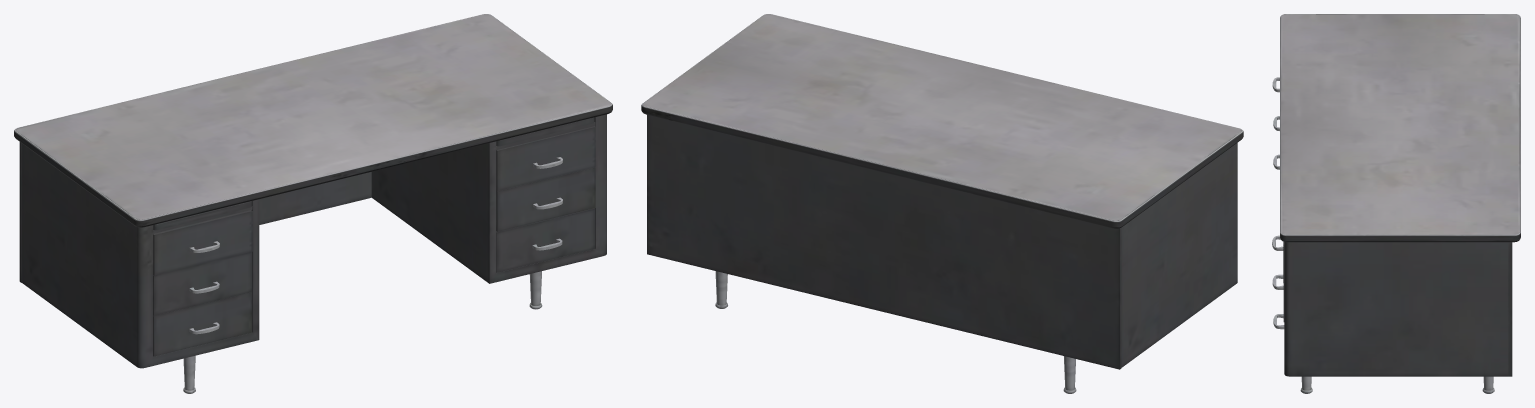
Rendered from deskMetal.glb.
The picture shows the model from 3 angles, left to right: view 1: azimuth 30°, elevation 25°; view 2: azimuth 150°, elevation 25°; view 3: azimuth 270°, elevation 25°; orthographic projection. The views are drawn at different scales.
Parts seen in each view (by area): view 1: metal_office_desk, metal_office_desk_drawer_04, metal_office_desk_drawer_01, metal_office_desk_drawer_02, metal_office_desk_drawer_03, metal_office_desk_drawer_06, metal_office_desk_drawer_05, metal_office_desk_tray_01, metal_office_desk_tray_02; view 2: metal_office_desk; view 3: metal_office_desk.
Part boxes in pixels (x1=…): metal_office_desk: x1=14, y1=14, x2=612, y2=393; metal_office_desk_drawer_04: x1=153, y1=210, x2=252, y2=275; metal_office_desk_drawer_01: x1=496, y1=126, x2=595, y2=191; metal_office_desk_drawer_02: x1=496, y1=167, x2=595, y2=231; metal_office_desk_drawer_03: x1=496, y1=208, x2=594, y2=272; metal_office_desk_drawer_06: x1=153, y1=292, x2=251, y2=356; metal_office_desk_drawer_05: x1=153, y1=252, x2=251, y2=315; metal_office_desk_tray_01: x1=153, y1=201, x2=251, y2=230; metal_office_desk_tray_02: x1=496, y1=117, x2=594, y2=146; metal_office_desk: x1=641, y1=14, x2=1243, y2=393; metal_office_desk: x1=1280, y1=14, x2=1520, y2=393.
Size of the model in its own units: 2 by 0.7874 by 0.9472.
1 material, 1 textured.
